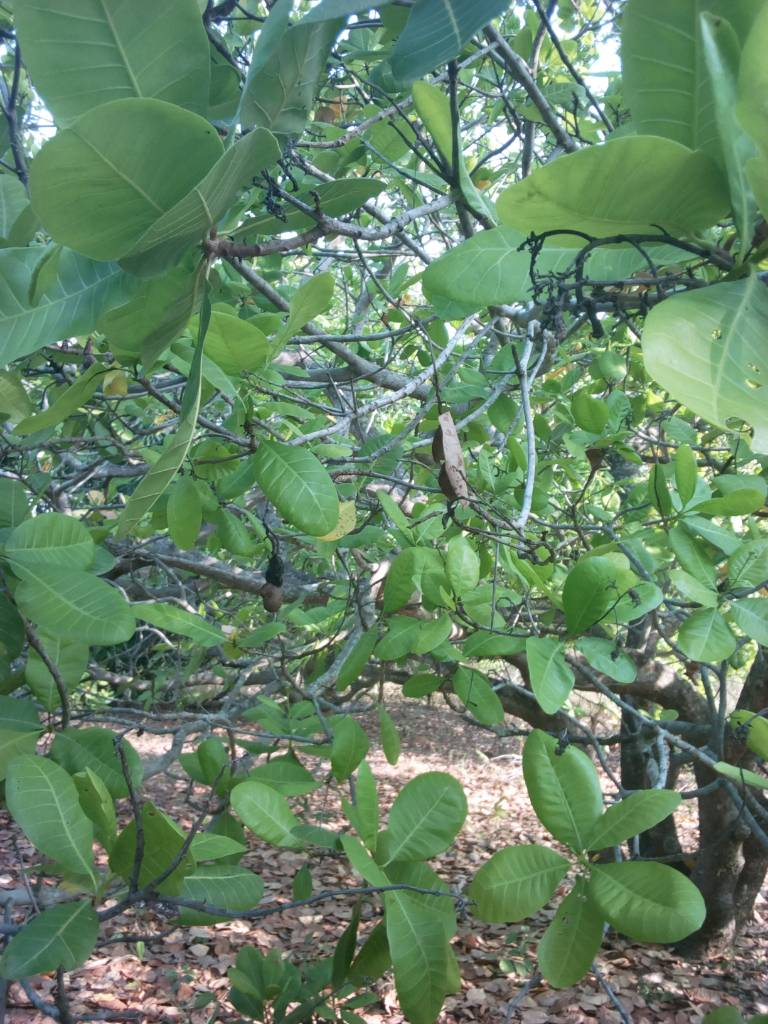Dessèchement des bourgeons: (518, 225, 666, 330), (260, 175, 330, 232), (432, 403, 468, 500), (261, 535, 288, 586)
